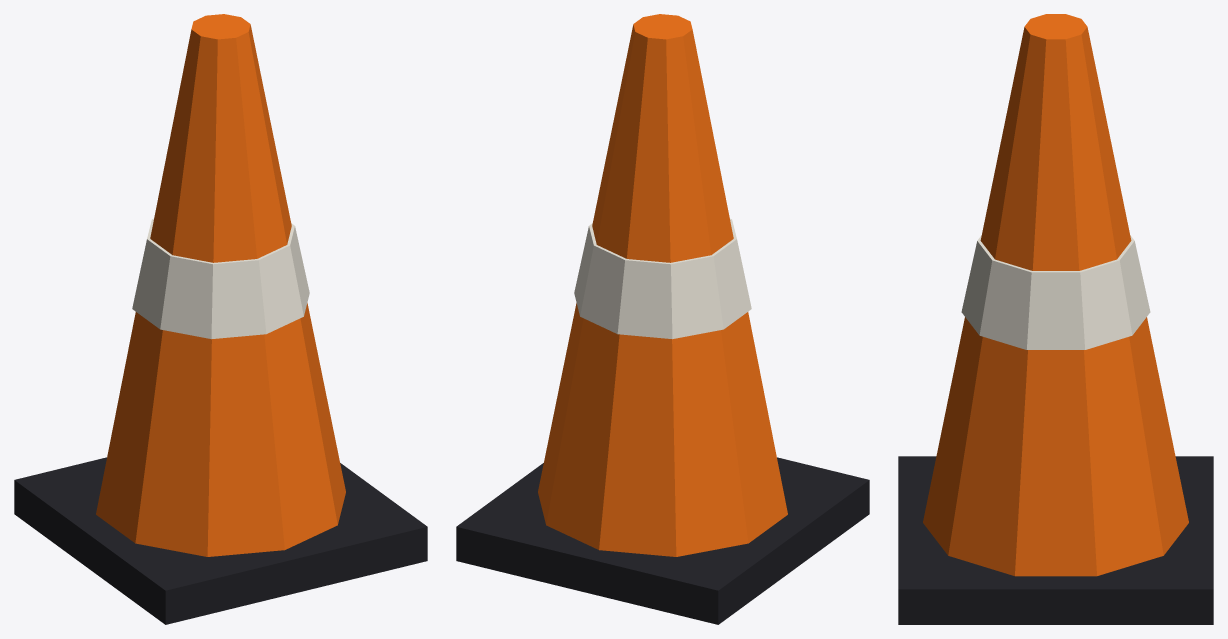
File: traffic_cone.glb
3 views of the same model, side by side, from view 1: azimuth 30°, elevation 25°; view 2: azimuth 150°, elevation 25°; view 3: azimuth 270°, elevation 25° (orthographic). The views are drawn at different scales.
Parts seen in each view (by area): view 1: traffic_cone; view 2: traffic_cone; view 3: traffic_cone.
Boxes of the visible parts, x1,y1,x2,y2 form: traffic_cone: (14, 14, 427, 624); traffic_cone: (456, 14, 869, 624); traffic_cone: (898, 14, 1213, 624).
Bounding box in the file's own units: 0.4 × 0.745 × 0.4.
